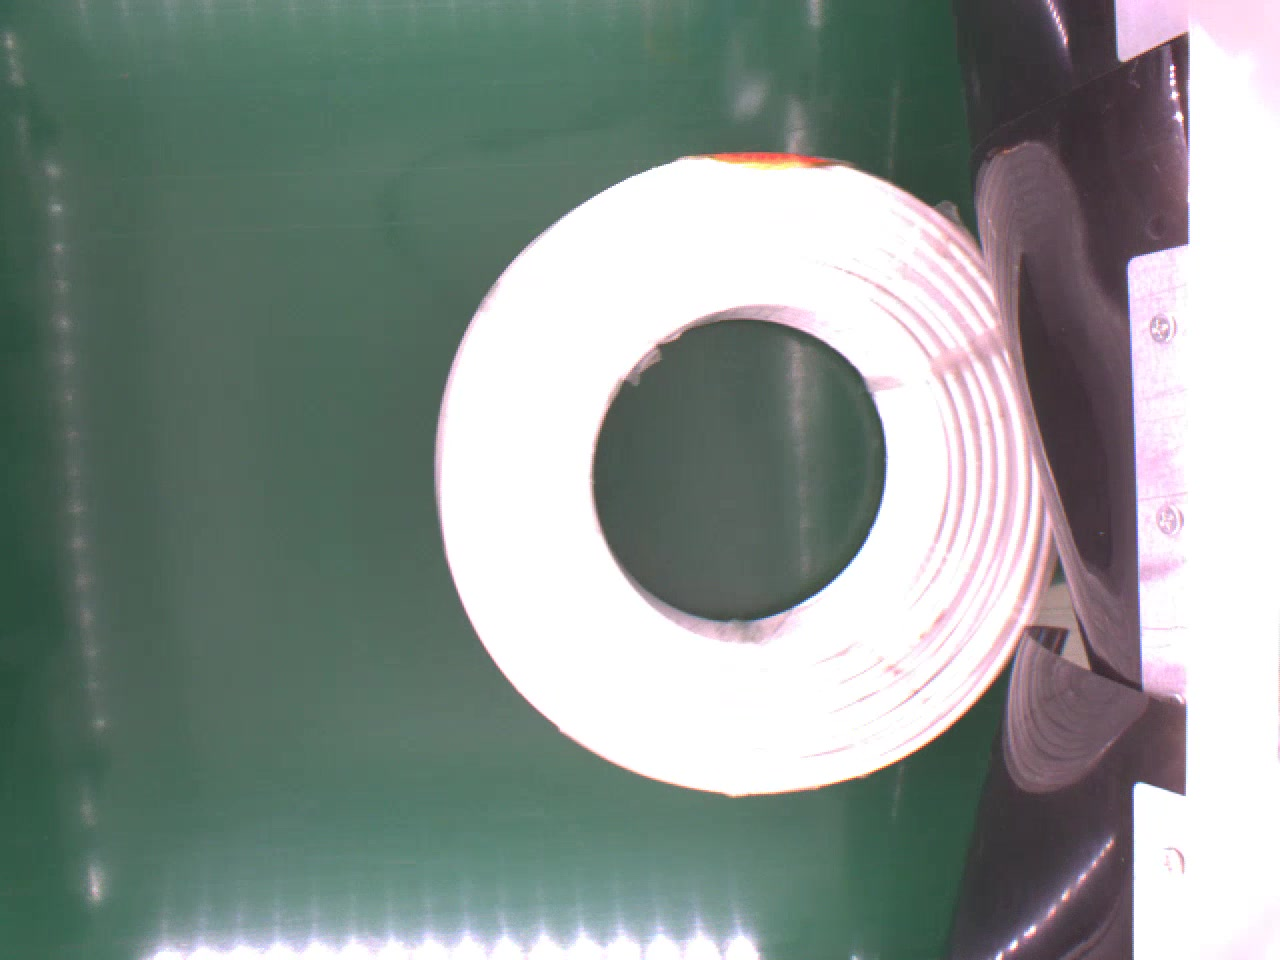white: (434, 150, 1059, 799)
